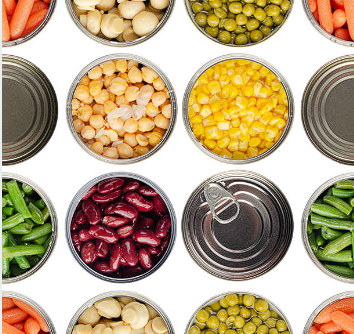Danificado: (66, 55, 172, 173), (68, 175, 176, 289), (187, 50, 290, 158), (0, 177, 56, 283), (69, 0, 181, 45), (307, 177, 354, 282), (193, 0, 295, 47), (66, 294, 184, 334), (187, 290, 293, 334), (0, 0, 58, 46), (0, 296, 62, 334), (311, 0, 354, 47), (307, 292, 354, 334)
Intacto: (182, 173, 290, 278), (0, 66, 56, 164), (308, 59, 354, 167)
